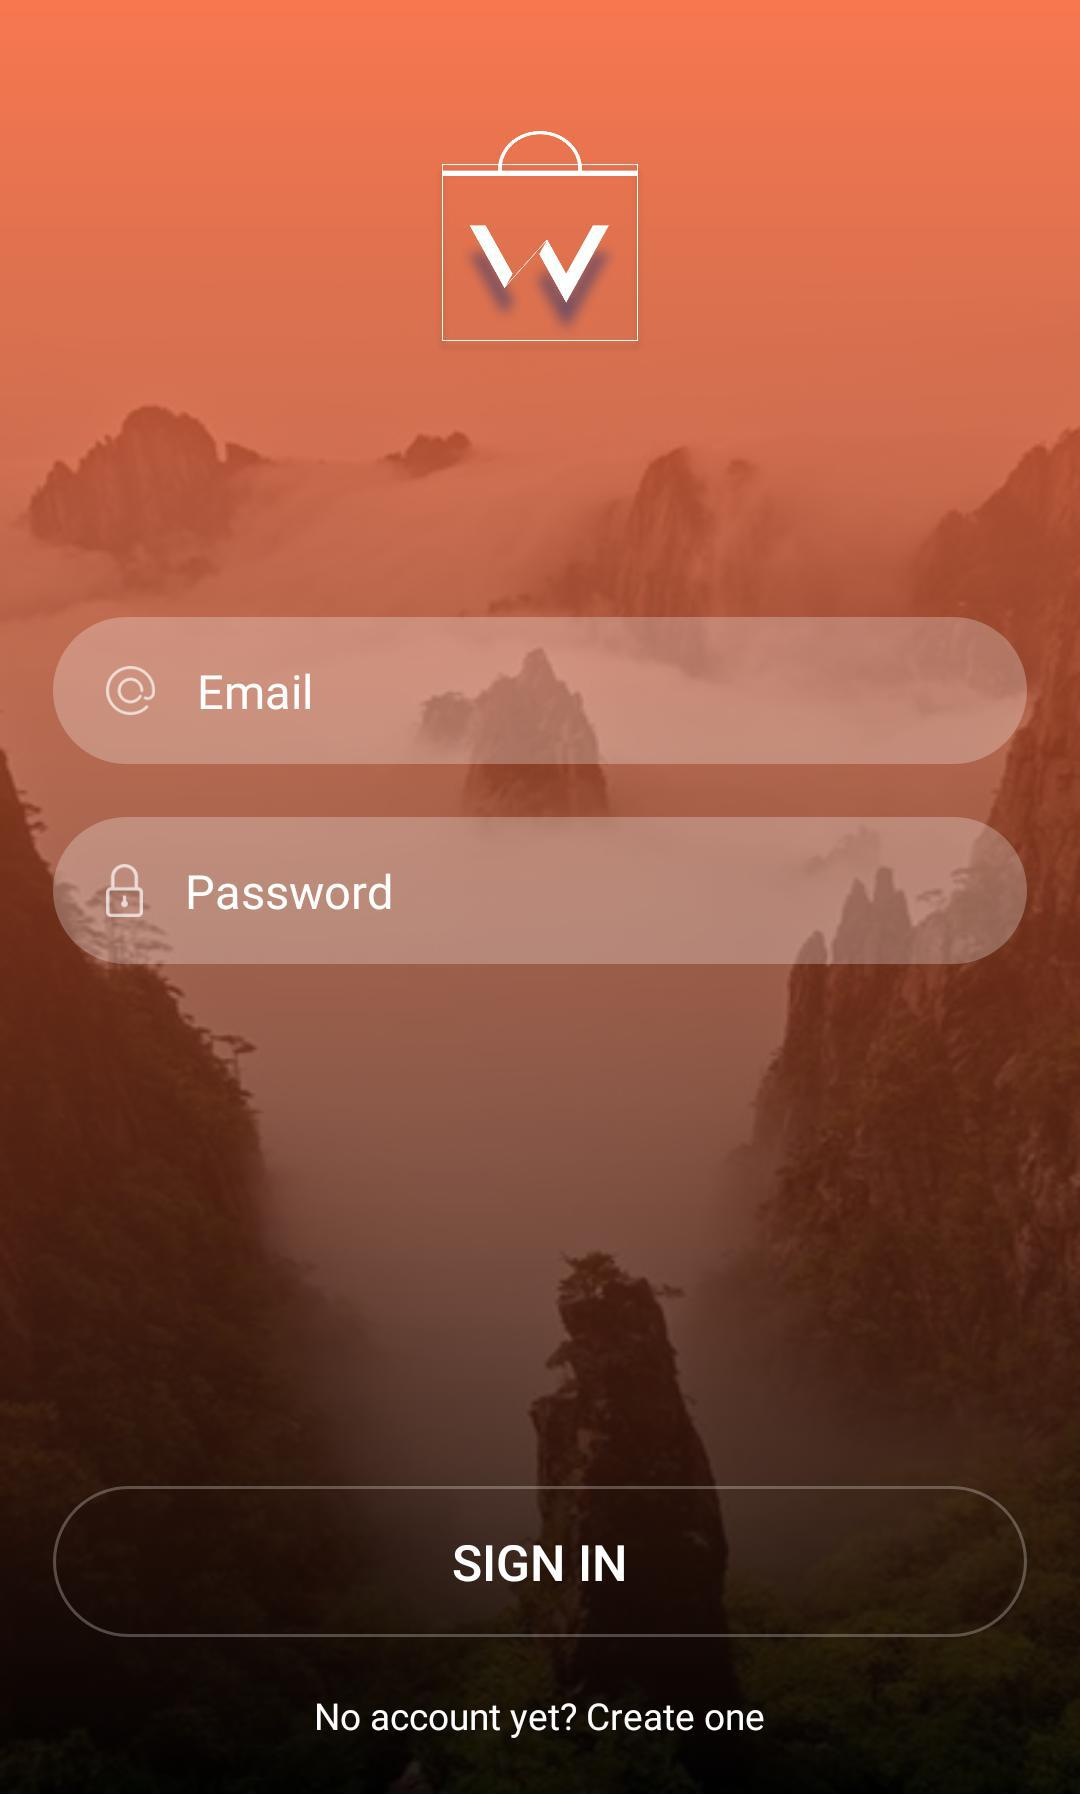BackgroundImage: (1, 1, 1080, 1794)
EditText: (53, 616, 1027, 765), (53, 818, 1027, 965)
Icon: (106, 864, 145, 918)
Image: (442, 131, 641, 342), (106, 666, 158, 718)
Text: (316, 1702, 765, 1739), (188, 873, 392, 911), (200, 671, 311, 711)
TextButton: (53, 1485, 1027, 1638)
